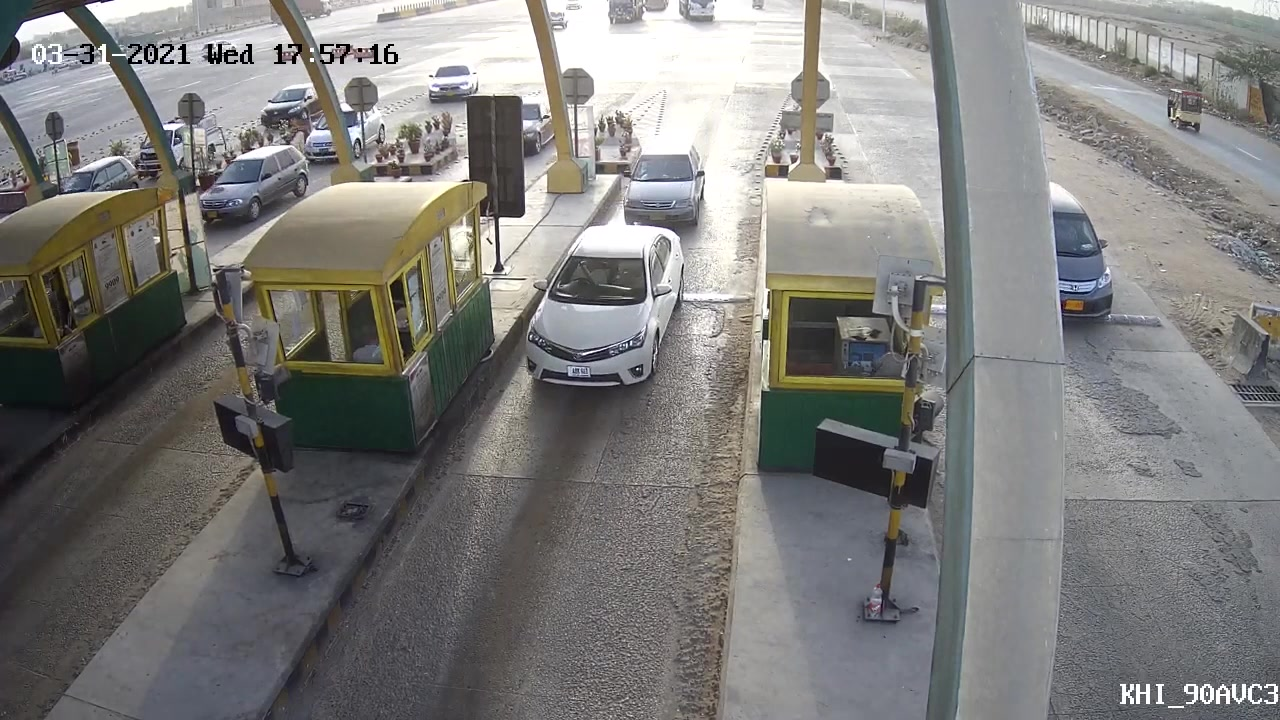F1: (520, 218, 701, 393)
